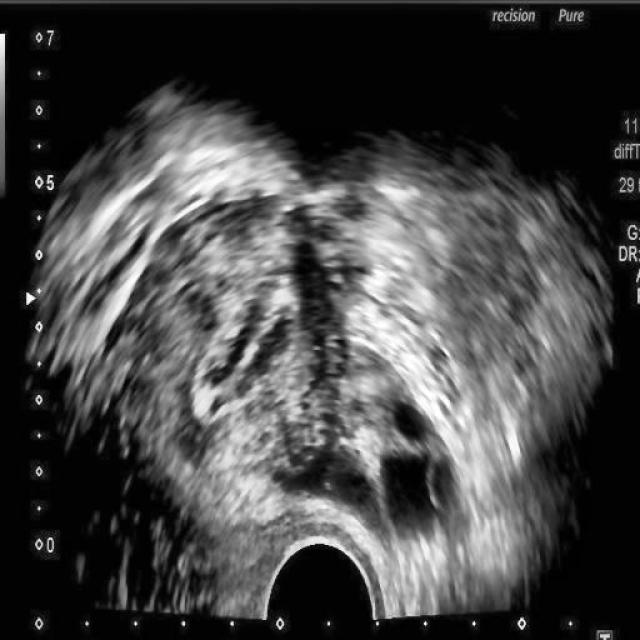non-viable embryo: (20, 79, 618, 625)
